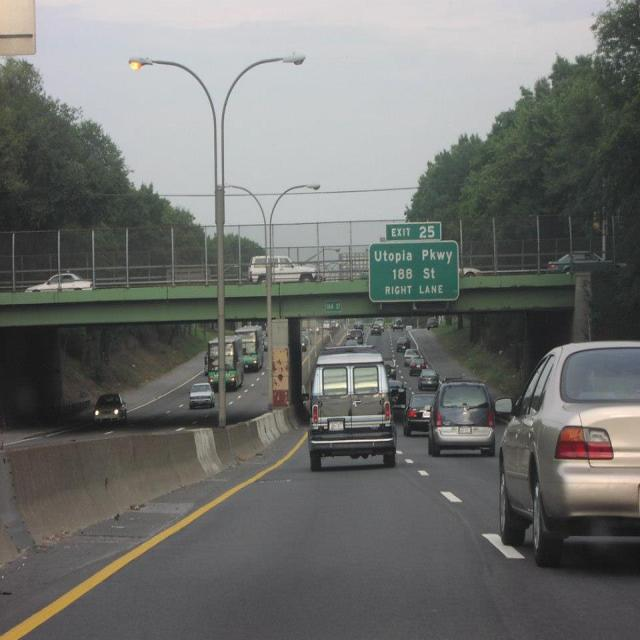Electric pole: (129, 52, 305, 427), (229, 184, 320, 408)
